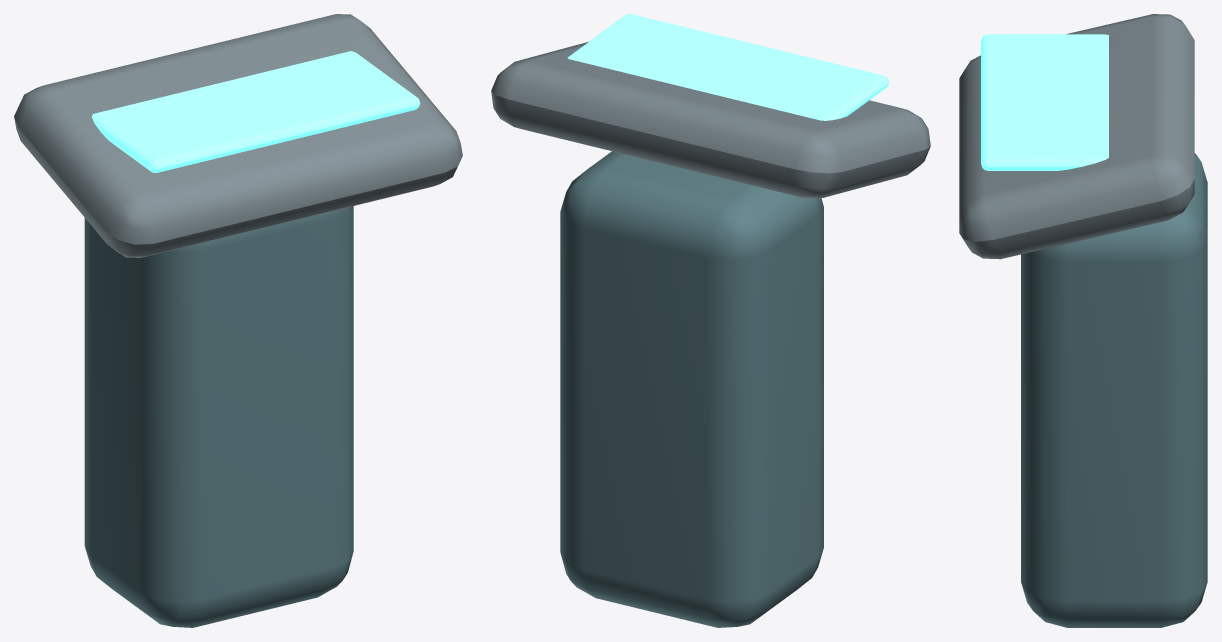
File: mission-console.glb
3 views of the same model, side by side, from view 1: azimuth 30°, elevation 25°; view 2: azimuth 150°, elevation 25°; view 3: azimuth 270°, elevation 25° (orthographic). The views are drawn at different scales.
Visible parts, largest first — view 1: Terminal pedestal, Console, Screen; view 2: Terminal pedestal, Console, Screen; view 3: Terminal pedestal, Console, Screen.
Boxes of the visible parts, left/top/right/bottom form: Terminal pedestal: left=84, top=206, right=353, bottom=627; Console: left=14, top=14, right=462, bottom=257; Screen: left=92, top=51, right=420, bottom=172; Terminal pedestal: left=560, top=151, right=823, bottom=627; Console: left=491, top=42, right=930, bottom=198; Screen: left=567, top=14, right=888, bottom=120; Terminal pedestal: left=1021, top=153, right=1207, bottom=627; Console: left=959, top=14, right=1194, bottom=259; Screen: left=981, top=34, right=1108, bottom=170.
Size of the model in its own units: 0.85 by 1.2 by 0.5319.
